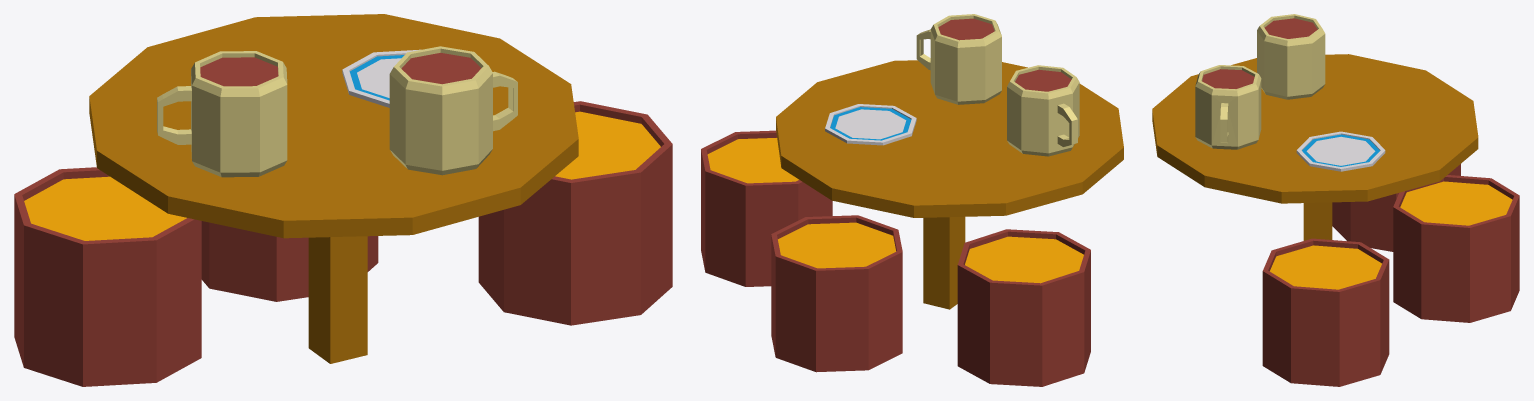
The model's file is f_table_01.fbx.
The picture shows the model from 3 angles, left to right: view 1: azimuth 30°, elevation 25°; view 2: azimuth 150°, elevation 25°; view 3: azimuth 270°, elevation 25°; orthographic projection. The views are drawn at different scales.
Parts seen in each view (by area): view 1: Circle.016; view 2: Circle.016; view 3: Circle.016.
Part boxes in pixels (left/top/right/bottom): Circle.016: left=14, top=14, right=672, bottom=386; Circle.016: left=701, top=14, right=1123, bottom=386; Circle.016: left=1152, top=14, right=1519, bottom=386.
Bounding box in the file's own units: 92.17 × 49.35 × 75.68.
